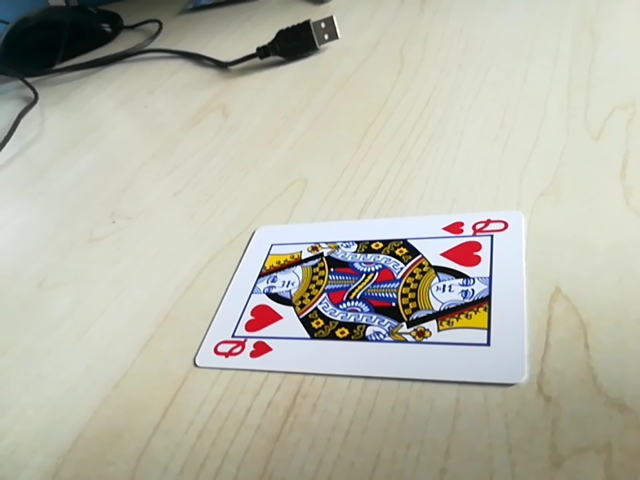hx q: (440, 215, 513, 241), (206, 338, 275, 365)
